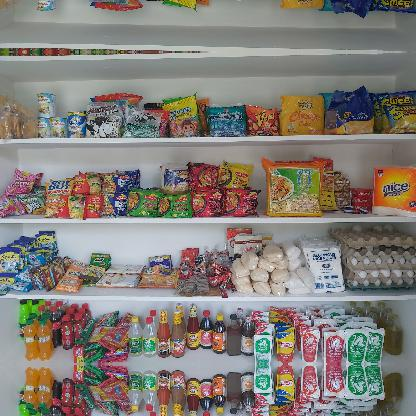Lady-s-Choice: (160, 163, 188, 195)
